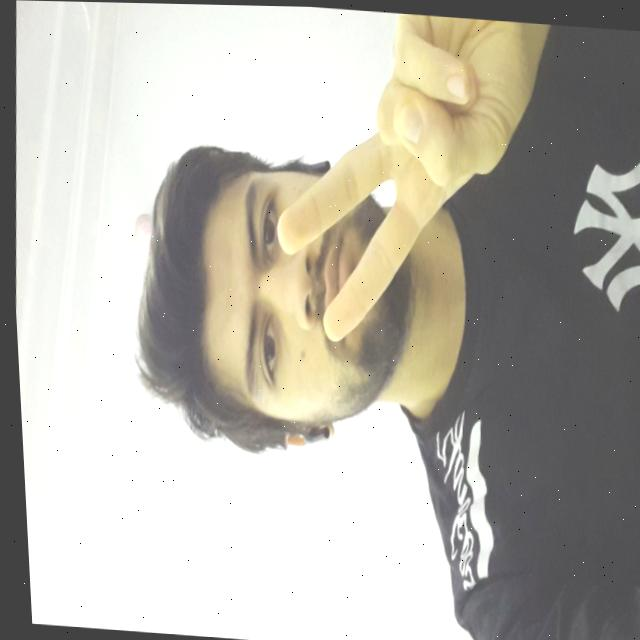Head: (116, 138, 427, 464)
Two: (258, 5, 565, 353)
